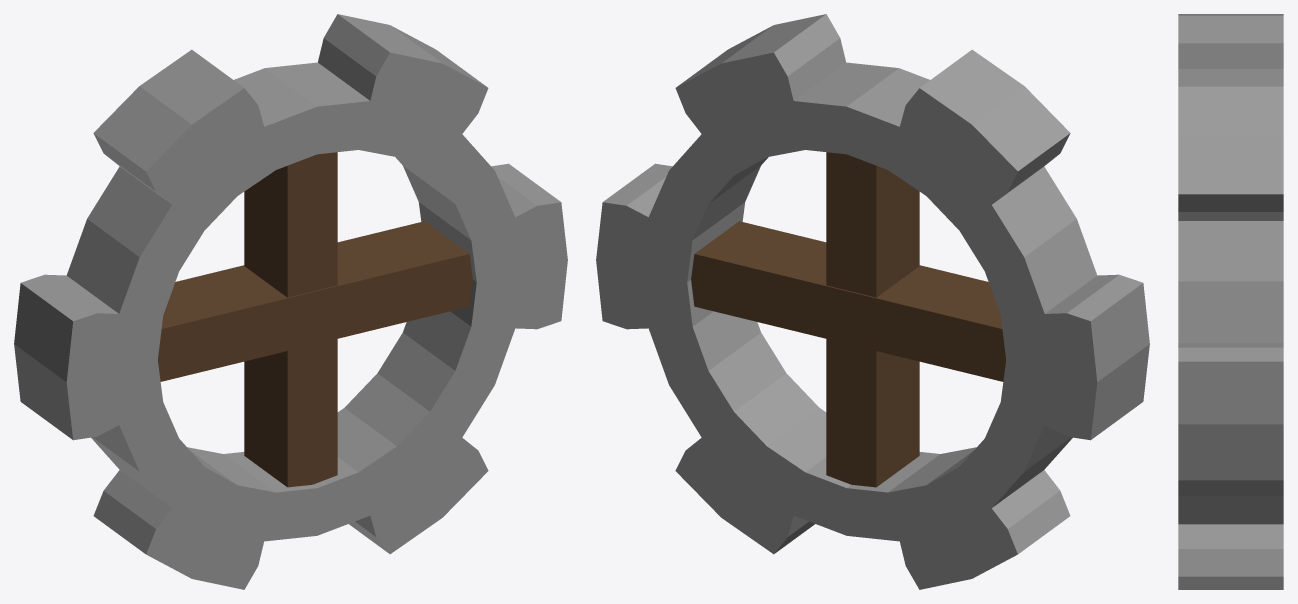
Rendered from gear-1.glb.
The picture shows the model from 3 angles, left to right: view 1: azimuth 30°, elevation 25°; view 2: azimuth 150°, elevation 25°; view 3: azimuth 270°, elevation 25°; orthographic projection.
Parts seen in each view (by area): view 1: Gear.001; view 2: Gear.001; view 3: Gear.001.
Part boxes in pixels (x1=…): Gear.001: x1=14, y1=14, x2=567, y2=589; Gear.001: x1=596, y1=14, x2=1149, y2=589; Gear.001: x1=1178, y1=14, x2=1283, y2=589.
Bounding box in the file's own units: 0.88 × 0.842 × 0.16.
